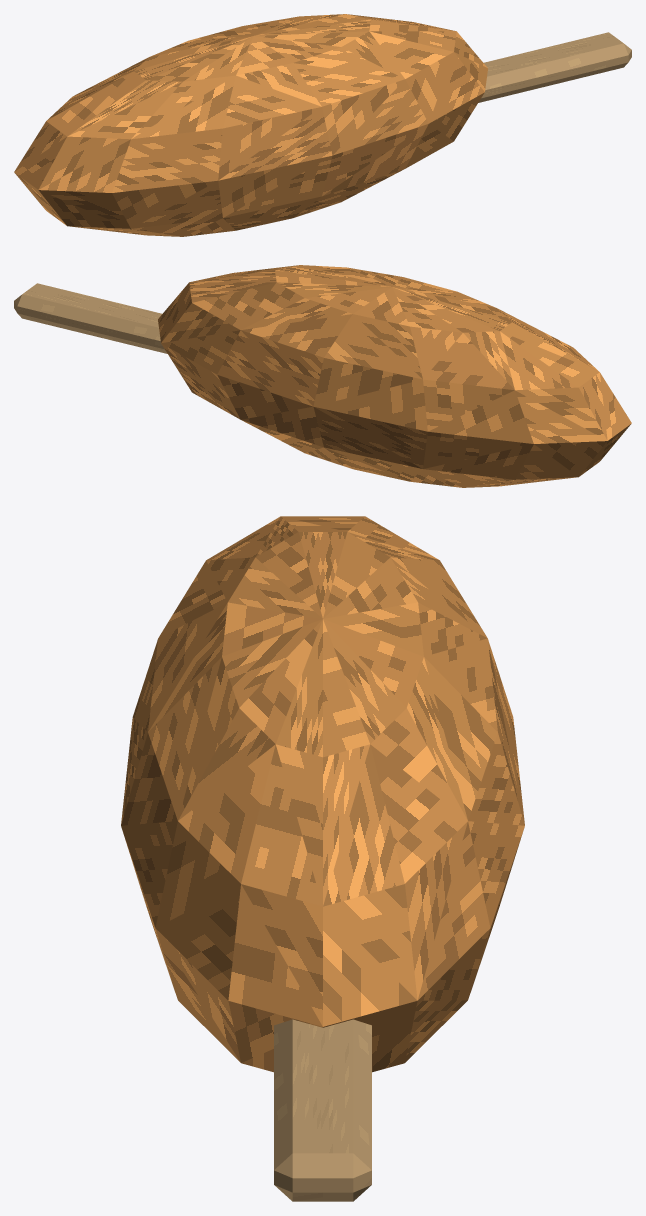
Rendered from corndogs_cooked.glb.
3 views of the same model, one above another, from view 1: azimuth 30°, elevation 25°; view 2: azimuth 150°, elevation 25°; view 3: azimuth 270°, elevation 25° (orthographic). The views are drawn at different scales.
Parts seen in each view (by area): view 1: block_oval battered sausage, block_flat wood stick; view 2: block_oval battered sausage, block_flat wood stick; view 3: block_oval battered sausage, block_flat wood stick.
Part boxes in pixels (<box>): block_oval battered sausage: <box>14,14,487,236</box>; block_flat wood stick: <box>478,32,631,102</box>; block_oval battered sausage: <box>158,265,631,487</box>; block_flat wood stick: <box>14,283,167,353</box>; block_oval battered sausage: <box>121,516,524,1072</box>; block_flat wood stick: <box>274,1019,371,1201</box>.
Size of the model in its own units: 0.153 by 0.0438 by 0.0448.
Materials: 1 (1 with a texture image).
